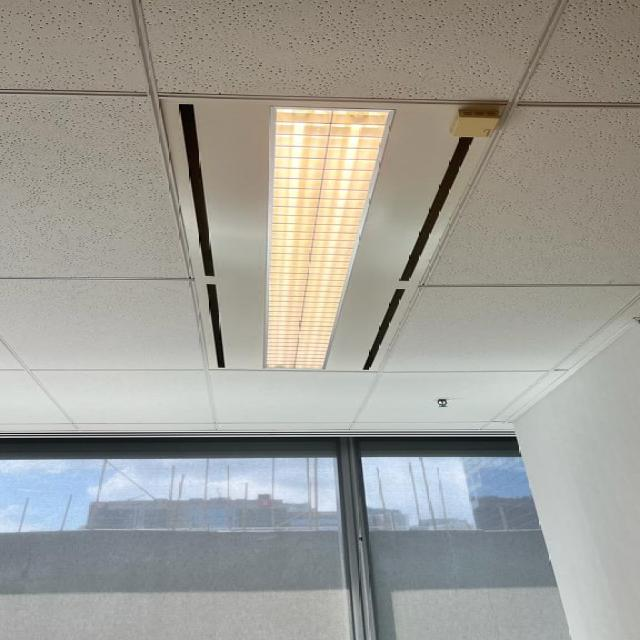Light-Opened: (156, 93, 523, 371)
